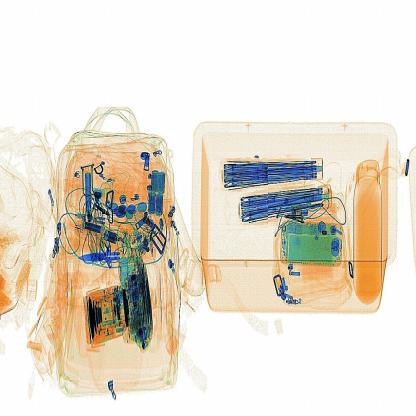gun: (80, 227, 137, 284)
